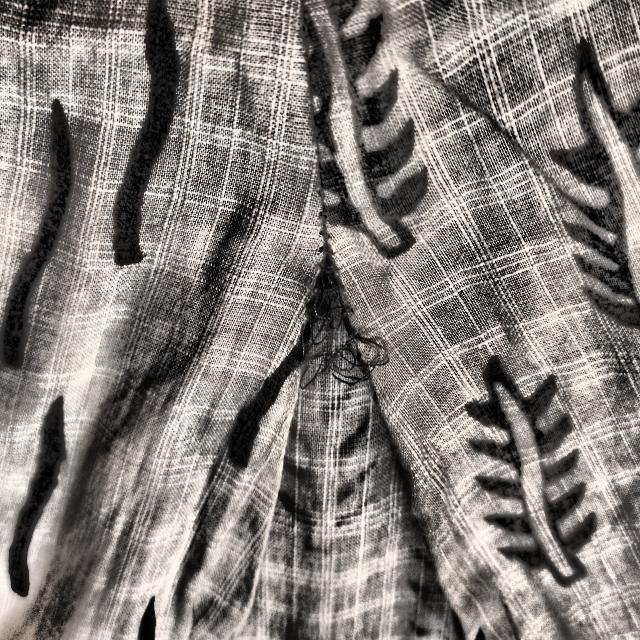Stitch: (292, 192, 395, 447)
